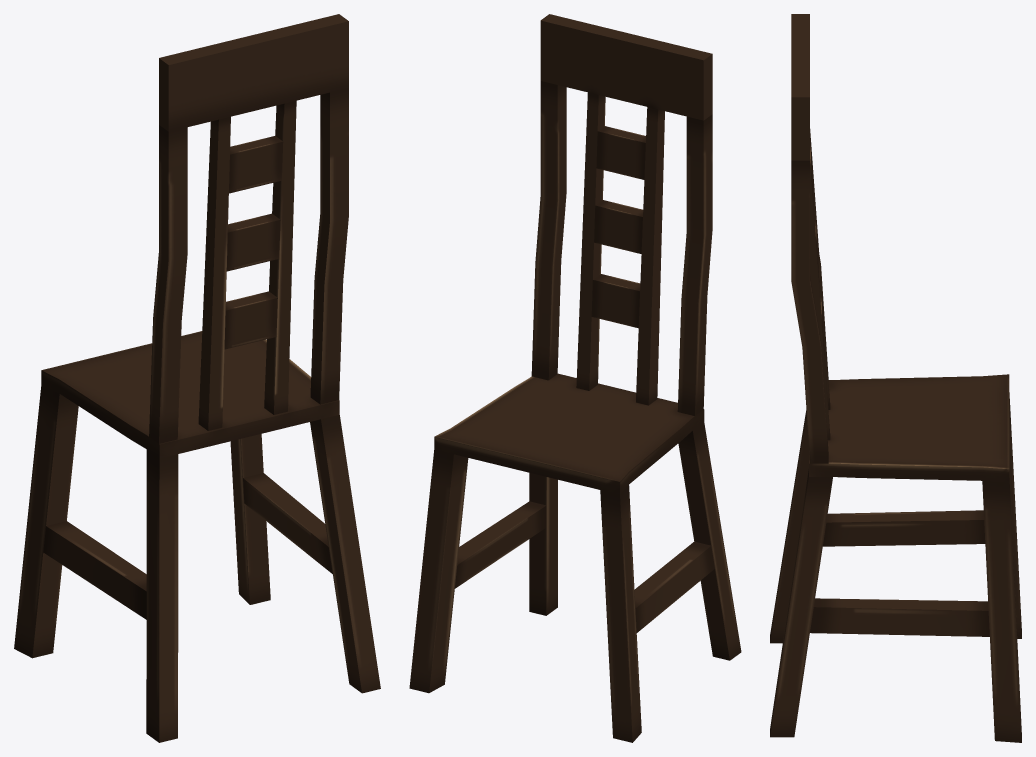
The model's file is SM_chair.fbx.
3 views of the same model, side by side, from view 1: azimuth 30°, elevation 25°; view 2: azimuth 150°, elevation 25°; view 3: azimuth 270°, elevation 25° (orthographic). The views are drawn at different scales.
Visible parts, largest first — view 1: SM_chair; view 2: SM_chair; view 3: SM_chair.
Part boxes in pixels (x1,y1,x2,y2): SM_chair: (14, 14, 380, 742); SM_chair: (409, 14, 741, 742); SM_chair: (770, 14, 1021, 742).
Size of the model in its own units: 1.35 by 3.47 by 1.26.
